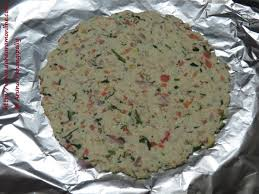rotti: (35, 8, 231, 175)
